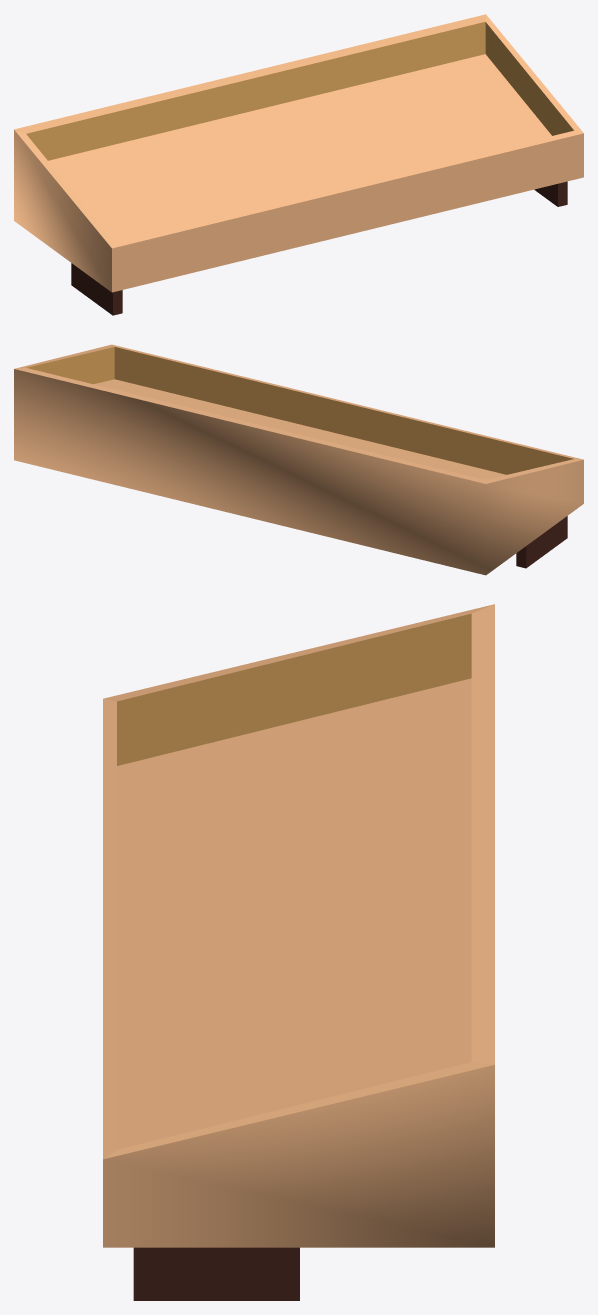
Rendered from pazar_tezgah.fbx.
3 renders of one model, top to bottom at view 1: azimuth 30°, elevation 25°; view 2: azimuth 150°, elevation 25°; view 3: azimuth 270°, elevation 25°, orthographic. The views are drawn at different scales.
Parts seen in each view (by area): view 1: pazar_tezgahi; view 2: pazar_tezgahi; view 3: pazar_tezgahi.
Boxes of the visible parts, x1,y1,x2,y2 form: pazar_tezgahi: (14,14,583,315); pazar_tezgahi: (14,344,583,575); pazar_tezgahi: (103,604,494,1300).
Size of the model in its own units: 427 by 154 by 106.
Materials: 1 (1 with a texture image).
